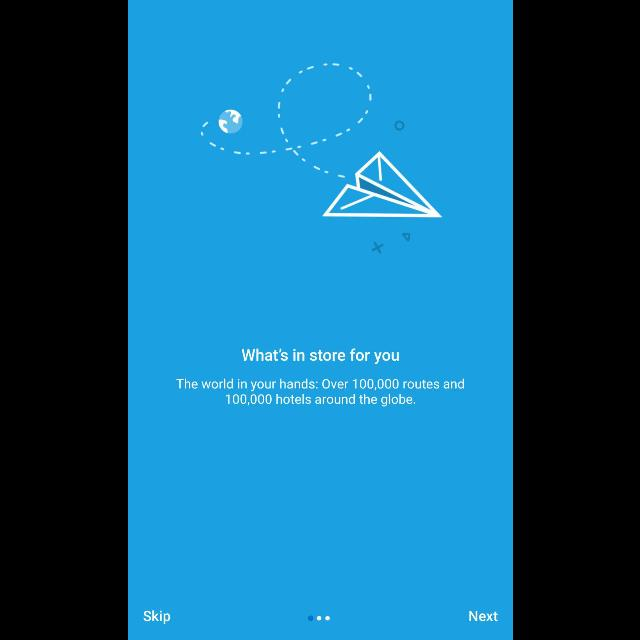image: (198, 61, 442, 252)
pageindicator: (308, 614, 330, 622)
text: (175, 378, 463, 408), (241, 348, 399, 366), (142, 610, 170, 624), (468, 610, 498, 622)
